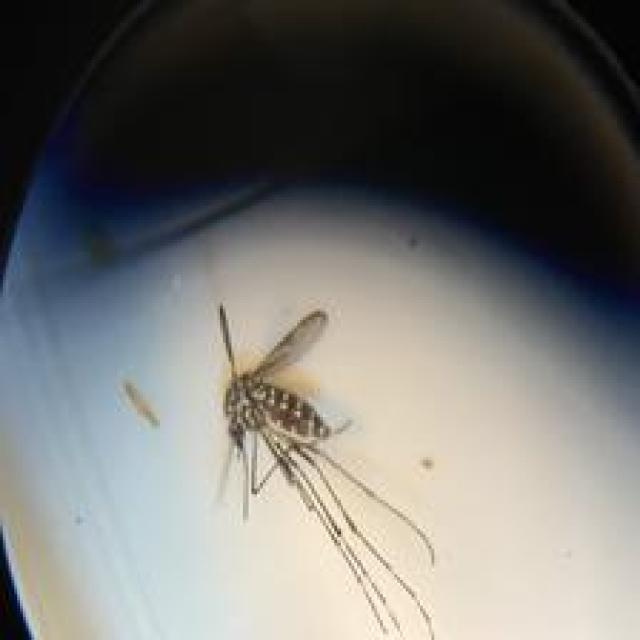Aedes albopictus: (210, 300, 441, 640)
